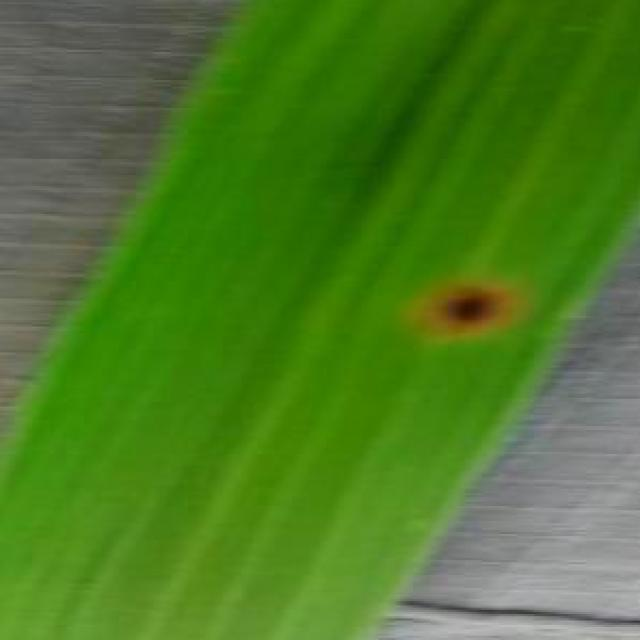Brown_Spot: (392, 266, 526, 364)
